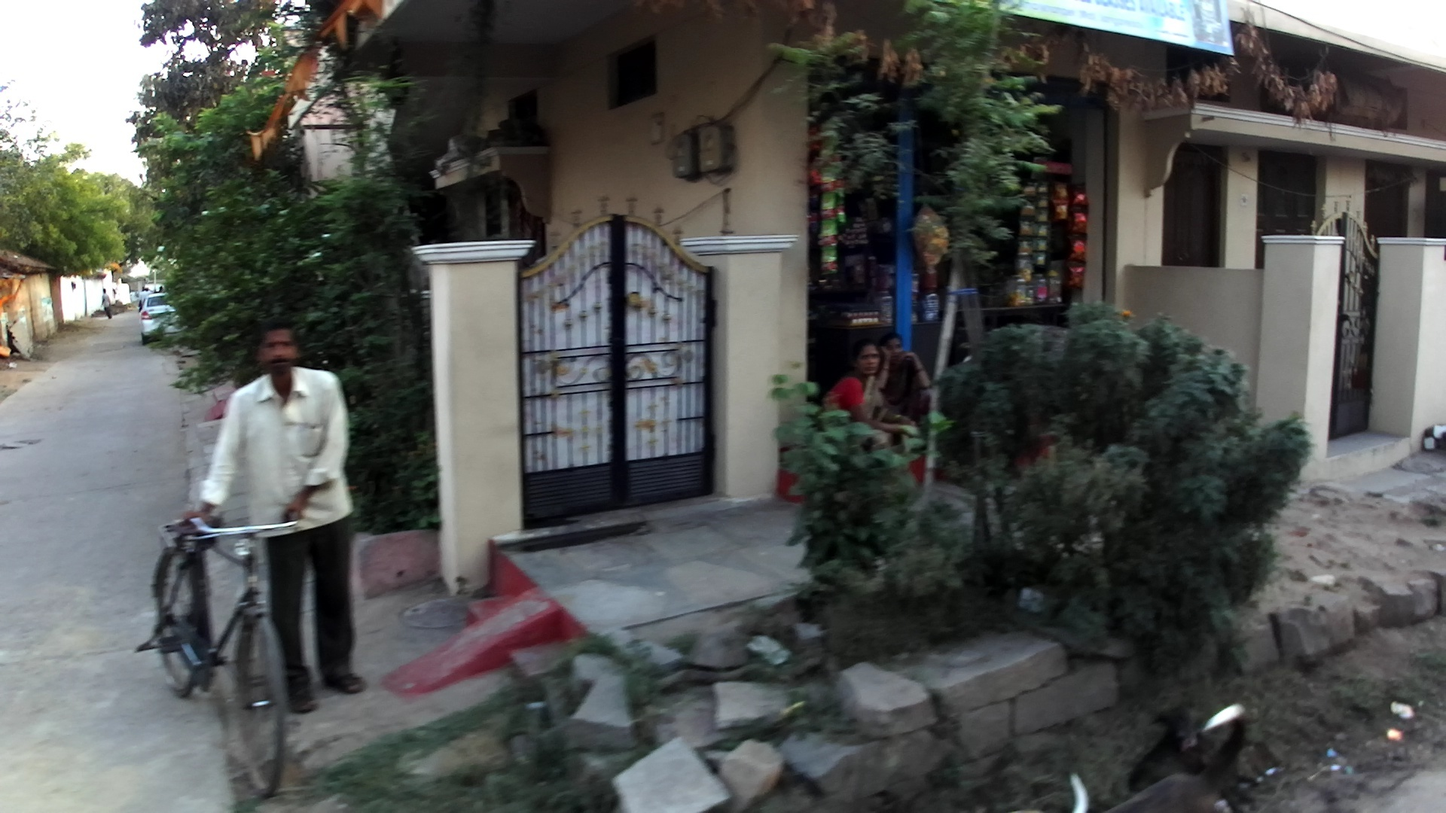bicycle: (134, 508, 303, 799)
car: (138, 293, 178, 346), (138, 287, 145, 311)
person: (822, 336, 921, 470), (874, 331, 934, 449), (100, 288, 114, 319), (142, 288, 154, 305)
rider: (179, 317, 368, 714)
